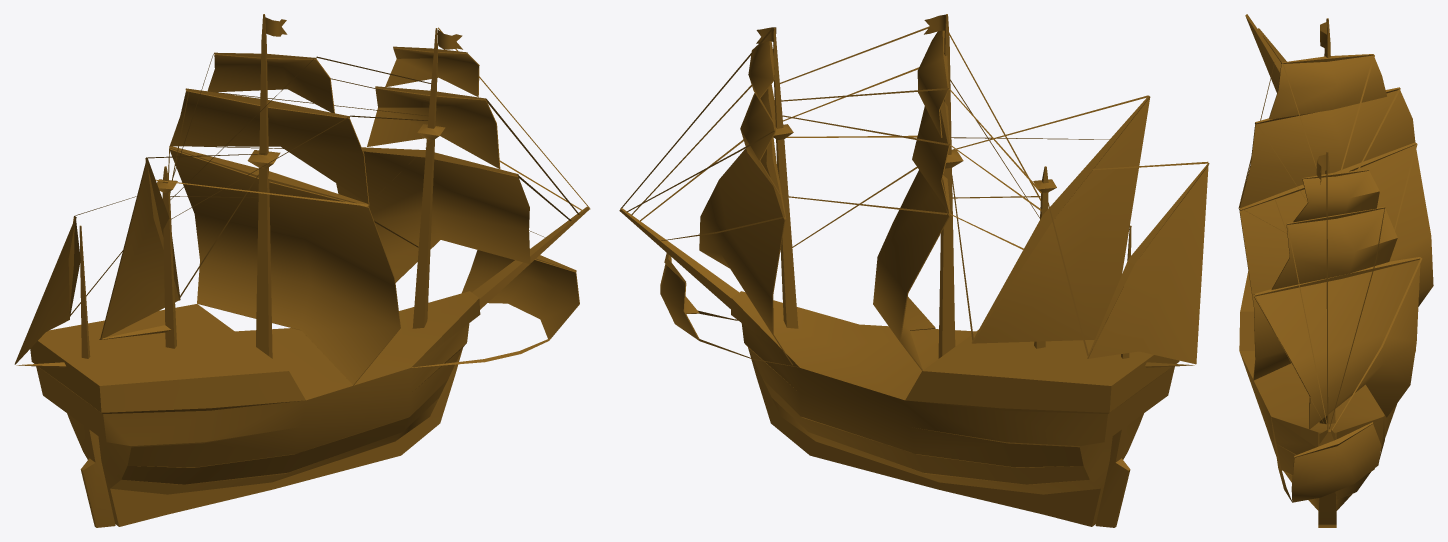
File: ship.fbx
The picture shows the model from 3 angles, left to right: view 1: azimuth 30°, elevation 25°; view 2: azimuth 150°, elevation 25°; view 3: azimuth 270°, elevation 25°; orthographic projection. The views are drawn at different scales.
Parts seen in each view (by area): view 1: ship; view 2: ship; view 3: ship.
Part boxes in pixels (x1=…): ship: x1=14, y1=14, x2=590, y2=527; ship: x1=619, y1=14, x2=1209, y2=527; ship: x1=1238, y1=14, x2=1433, y2=527.
Size of the model in its own units: 975 by 764 by 300.
